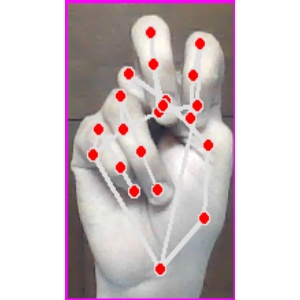N: (67, 2, 233, 300)
